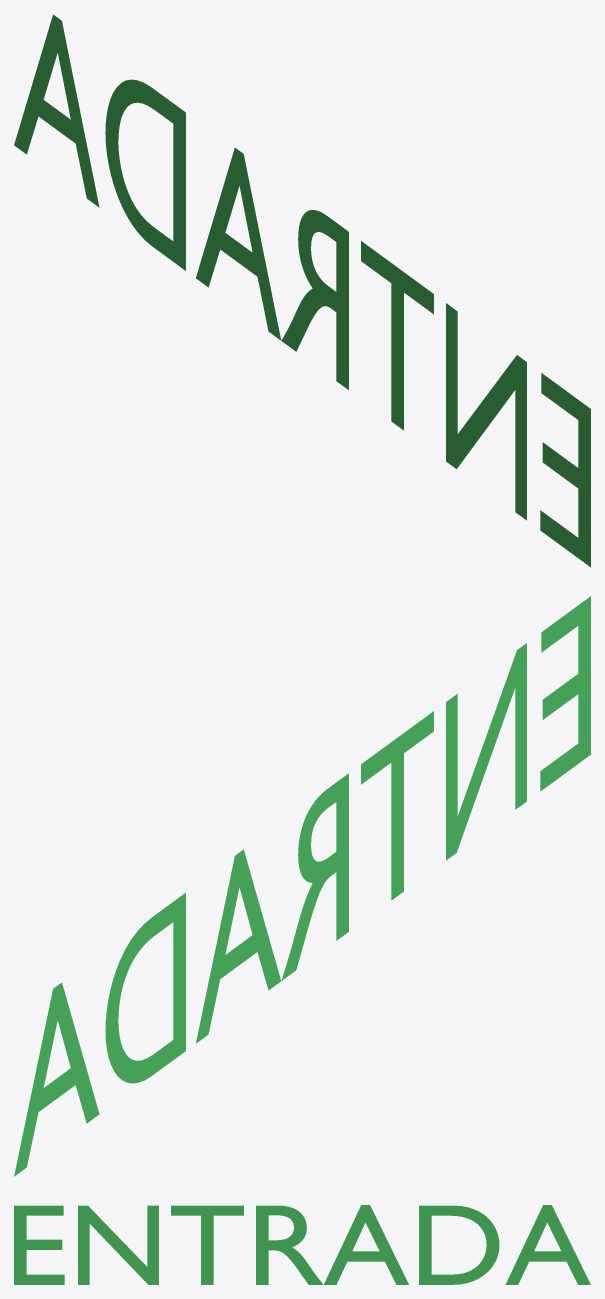
File: entrada.gltf
The picture shows the model from 3 angles, top to bottom: view 1: azimuth 30°, elevation 25°; view 2: azimuth 150°, elevation 25°; view 3: azimuth 270°, elevation 25°; orthographic projection. The views are drawn at different scales.
Parts seen in each view (by area): view 1: Text; view 2: Text; view 3: Text.
Boxes of the visible parts, left/top/right/bottom form: Text: left=14, top=14, right=590, bottom=567; Text: left=14, top=596, right=590, bottom=1176; Text: left=14, top=1205, right=590, bottom=1284.
Bounding box in the file's own units: 1.54e-07 × 0.686 × 4.5.
